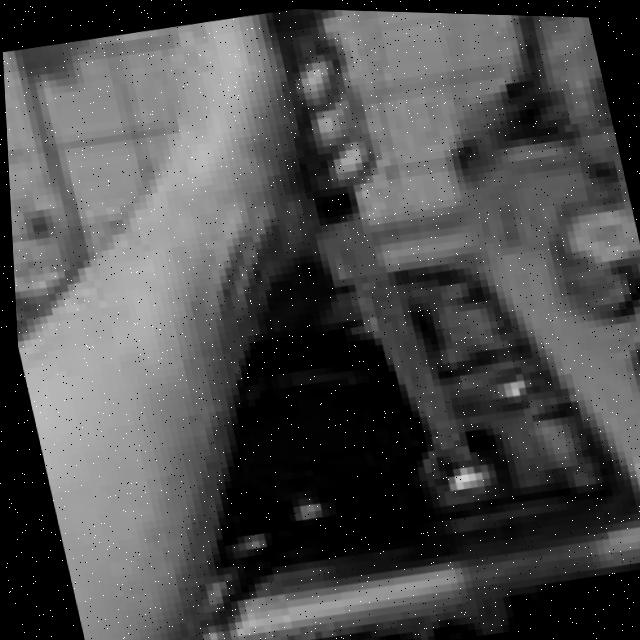knife: (304, 173, 473, 485)
